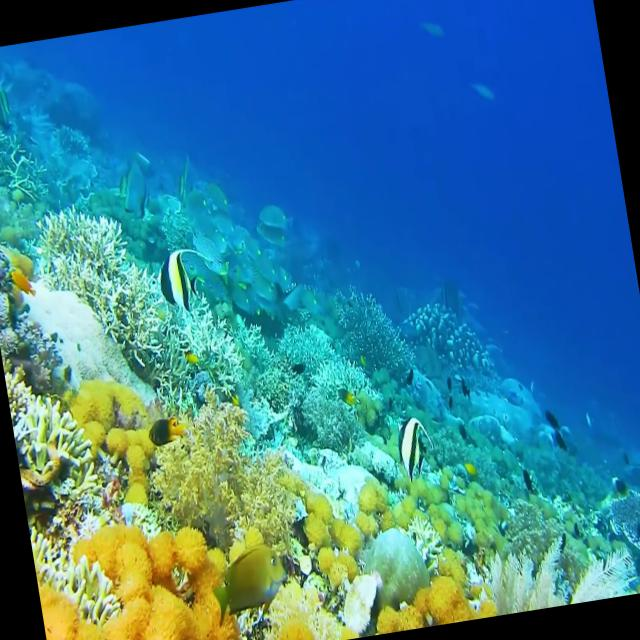fish: (148, 228, 226, 324), (386, 405, 442, 489), (135, 398, 192, 458), (512, 460, 544, 503), (334, 378, 361, 414), (454, 368, 476, 402), (629, 507, 640, 570)
